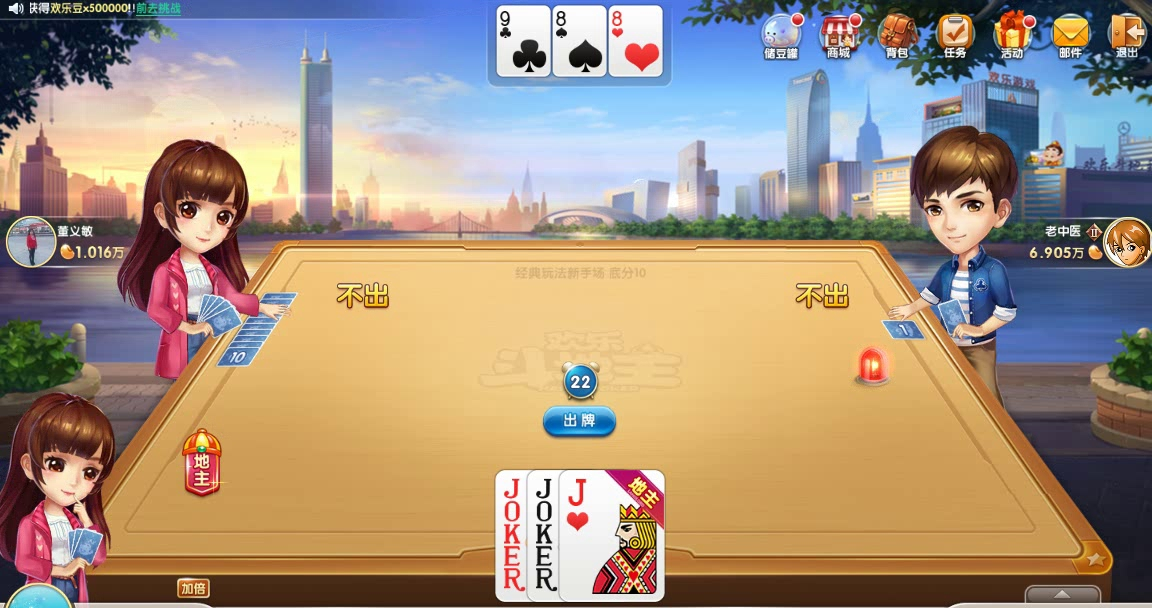11~3: (557, 470, 665, 602)
17~3: (526, 469, 634, 601)
18~4: (495, 469, 603, 601)
8~3: (609, 4, 664, 76)
8~4: (552, 4, 607, 76)
9~2: (496, 5, 551, 77)
